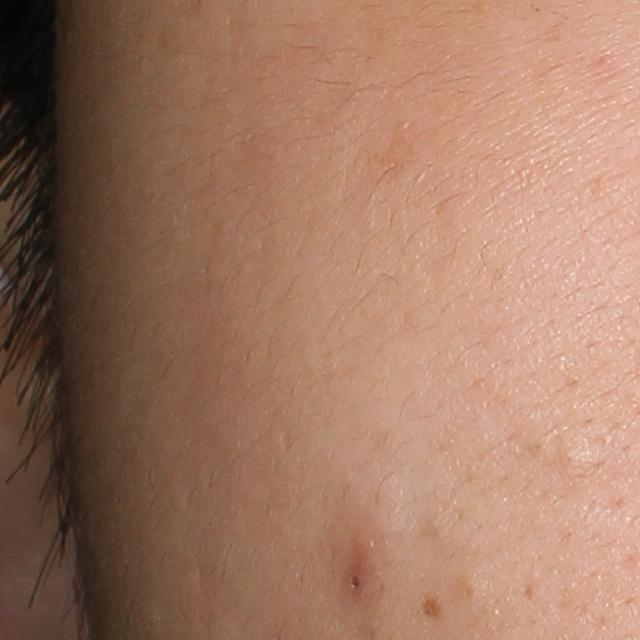comedo: (554, 430, 602, 480)
nevus: (416, 595, 442, 623)
